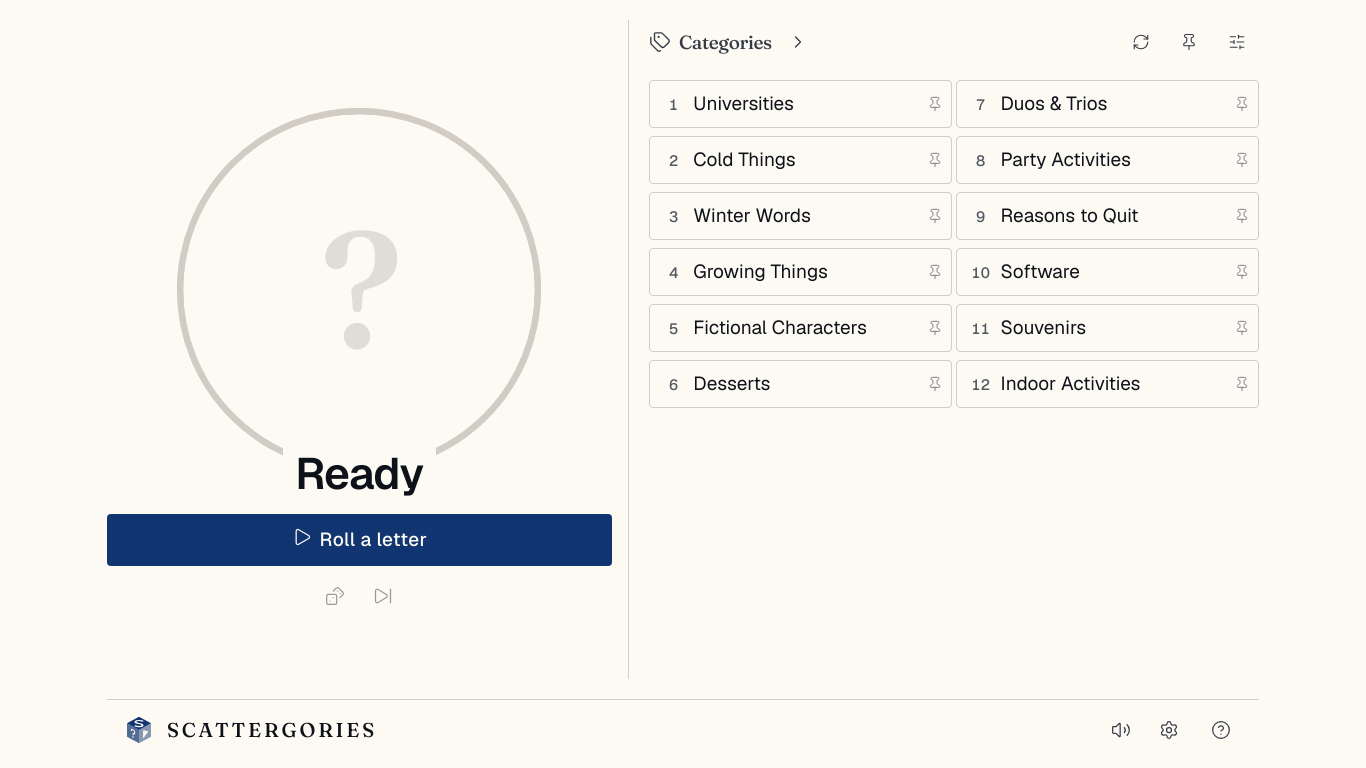
Test: switches language from the dropdown
Expected: the heading "Scattergories" is shown, [167,720,377,740]
Click the button named "Settings": coordinates (1169, 730) [1147,708,1191,752]
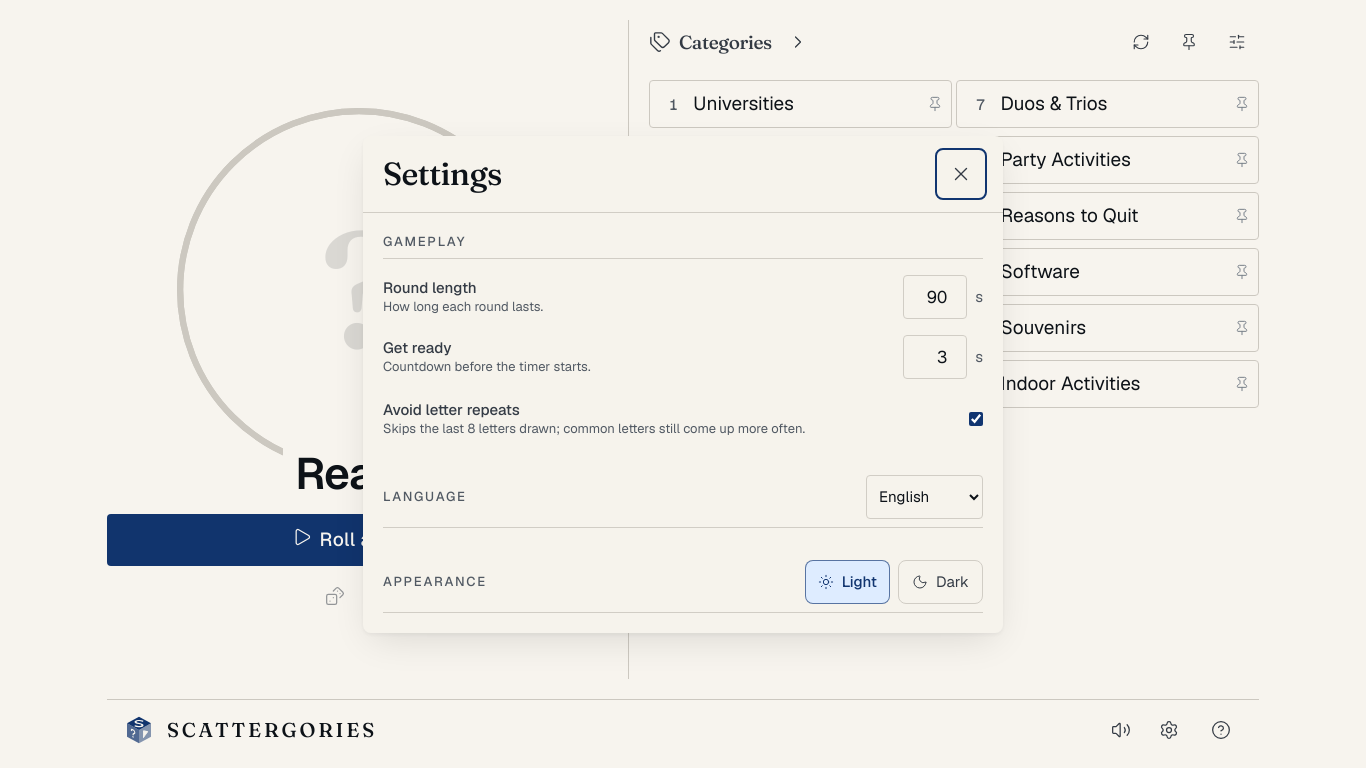
Now the dropdown named "Language" shows "English"
Select "Español" in the dropdown named "Language": coordinates (924, 496) [866,474,983,518]
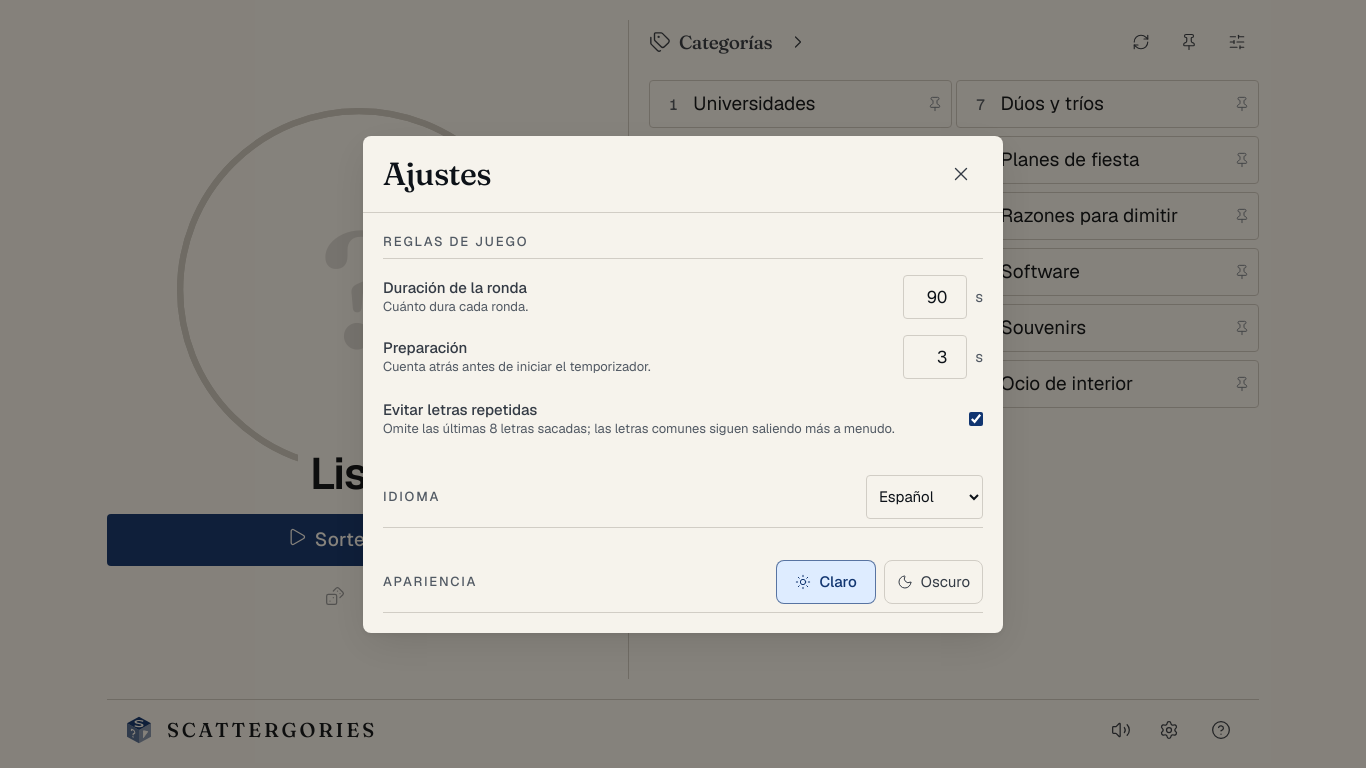
Now the button "Sortear letra" is shown, box [107,514,612,566]
